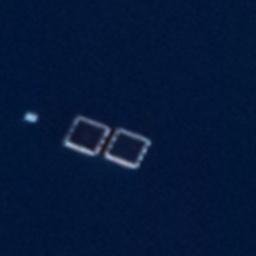square_solid: (58, 110, 117, 163), (99, 123, 156, 176)
